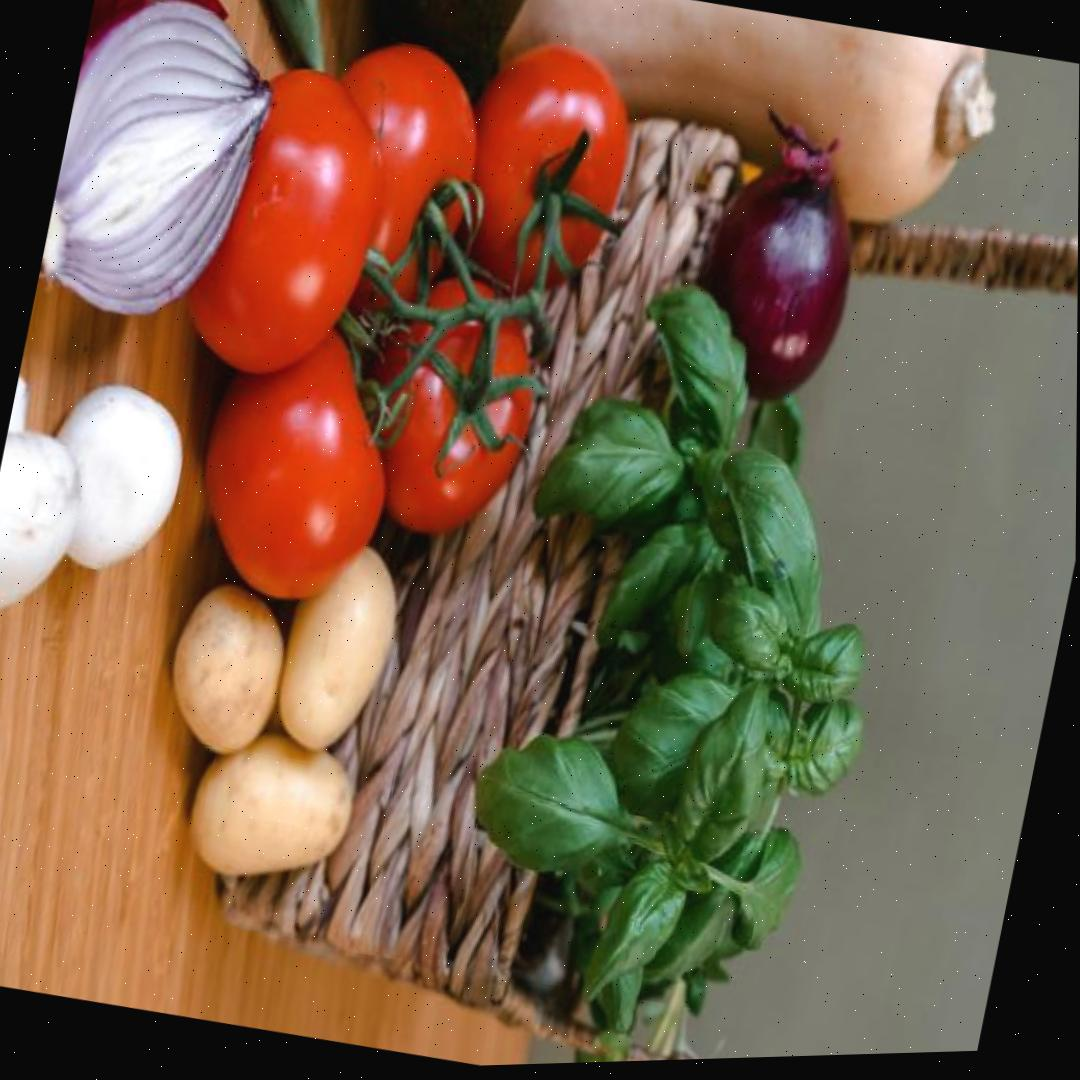matang: (157, 48, 404, 390), (180, 297, 418, 618), (339, 261, 555, 550), (429, 26, 643, 317)
